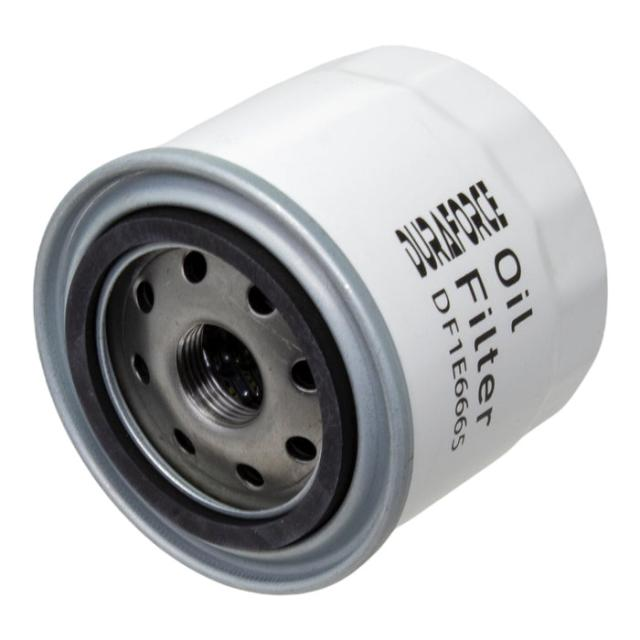oil_filter: (21, 42, 614, 602)
